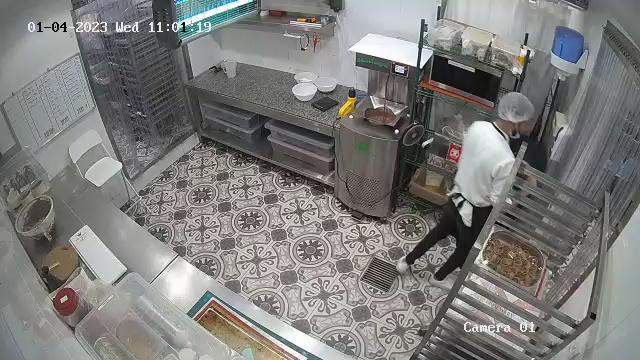apron: (443, 177, 492, 233)
